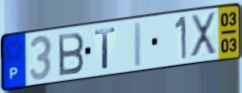1: (174, 14, 188, 62)
3: (29, 34, 55, 83)
B: (56, 30, 86, 78)
I: (132, 20, 144, 70)
T: (93, 26, 118, 71)
X: (189, 10, 218, 59)
